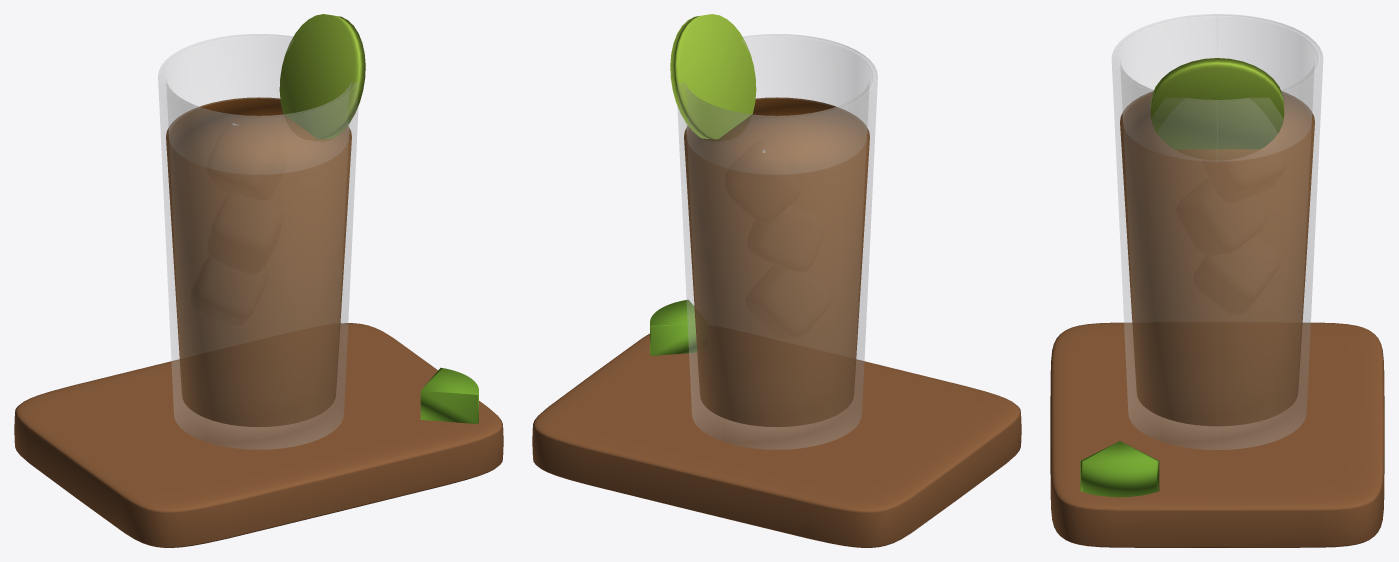
Rendered from cha-gelado-de-limao.glb.
3 views of the same model, side by side, from view 1: azimuth 30°, elevation 25°; view 2: azimuth 150°, elevation 25°; view 3: azimuth 270°, elevation 25° (orthographic). The views are drawn at different scales.
Parts seen in each view (by area): view 1: cha-gelado-de-limao; view 2: cha-gelado-de-limao; view 3: cha-gelado-de-limao.
Boxes of the visible parts, bbox=[...] form: cha-gelado-de-limao: bbox=[14, 14, 503, 547]; cha-gelado-de-limao: bbox=[532, 14, 1021, 547]; cha-gelado-de-limao: bbox=[1050, 14, 1384, 547].
Size of the model in its own units: 0.16 by 0.1742 by 0.12.
